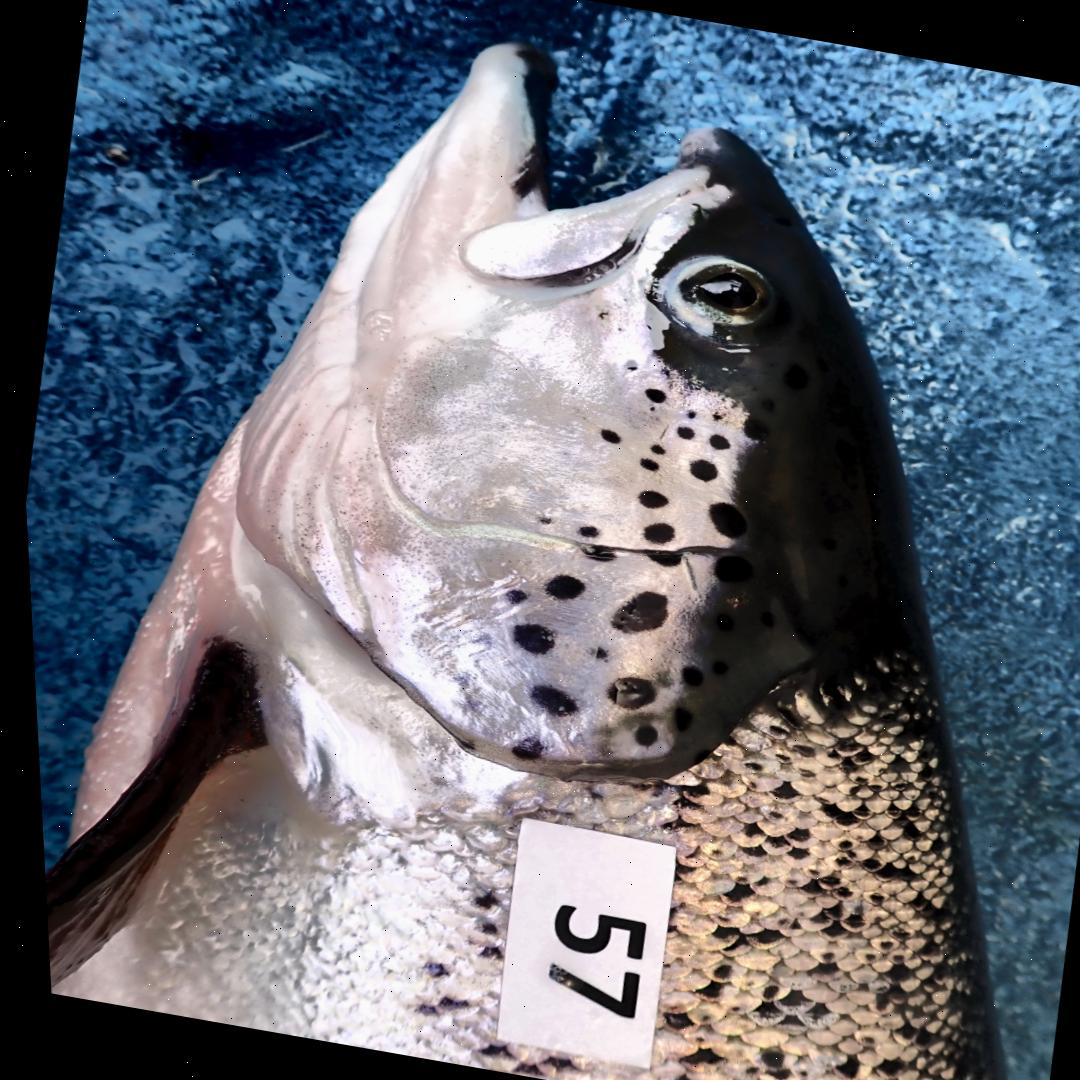spot: (604, 591, 660, 632), (600, 677, 647, 709), (522, 685, 568, 716), (703, 502, 740, 538), (505, 623, 546, 653), (538, 575, 577, 599), (708, 556, 744, 582), (636, 522, 667, 544), (503, 738, 534, 759), (683, 459, 711, 481), (637, 551, 676, 566), (625, 724, 649, 746), (576, 545, 609, 561), (632, 490, 661, 508), (665, 707, 684, 731), (673, 666, 695, 686), (703, 434, 724, 449), (499, 589, 520, 604), (640, 388, 661, 402), (595, 429, 614, 443), (634, 458, 653, 471), (572, 525, 592, 537), (671, 426, 689, 439), (586, 647, 599, 659), (645, 444, 659, 454), (621, 360, 631, 370), (532, 516, 546, 523), (680, 410, 690, 418), (708, 413, 718, 420)
